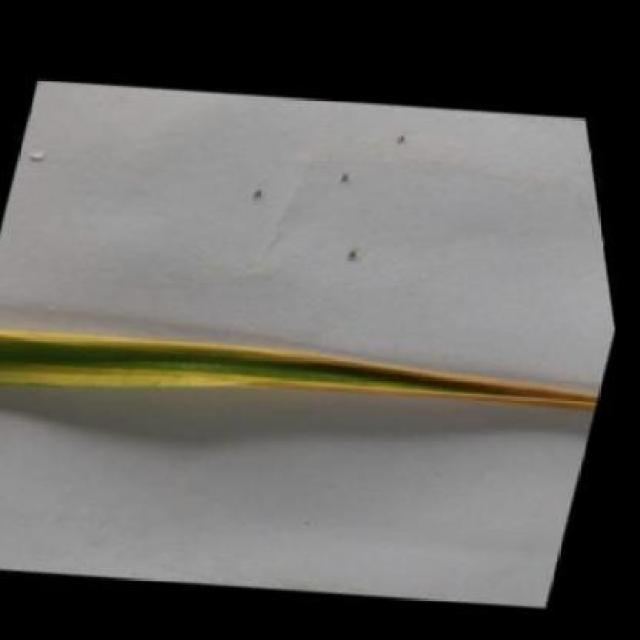Rice False Smut: (0, 168, 622, 543)
